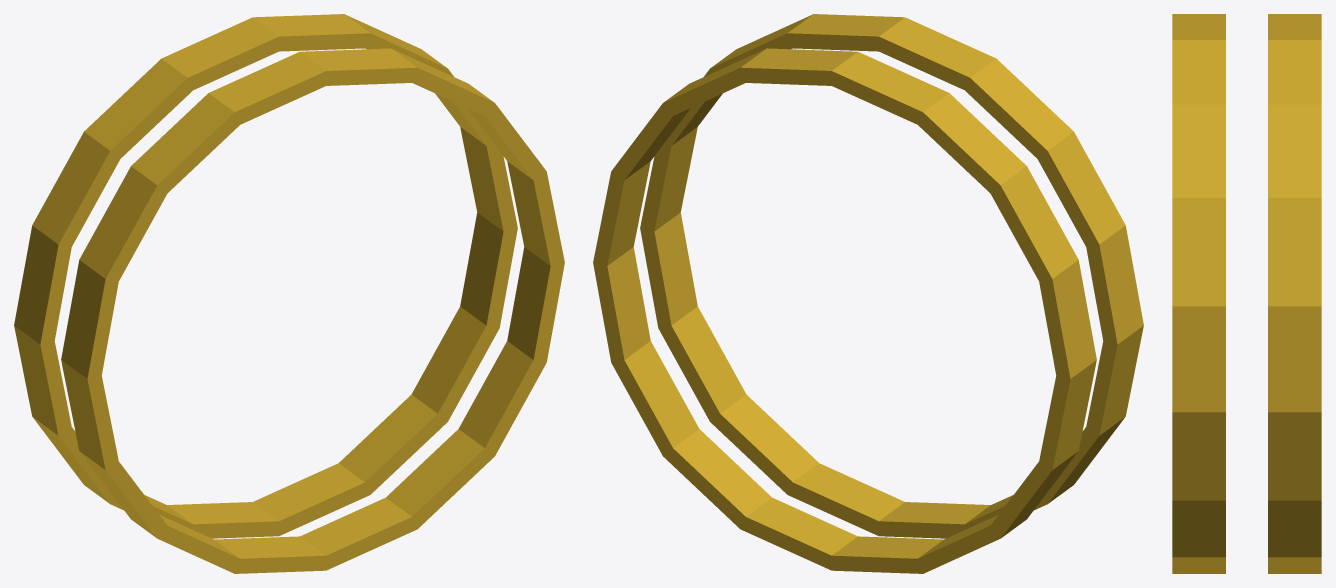
The model's file is BombGlide__Body.obj.
The picture shows the model from 3 angles, left to right: view 1: azimuth 30°, elevation 25°; view 2: azimuth 150°, elevation 25°; view 3: azimuth 270°, elevation 25°; orthographic projection.
Visible parts, largest first — view 1: Identification_band.001, Identification_band; view 2: Identification_band, Identification_band.001; view 3: Identification_band, Identification_band.001.
Part boxes in pixels (x1=…): Identification_band.001: x1=61, y1=48, x2=564, y2=573; Identification_band: x1=14, y1=14, x2=517, y2=538; Identification_band: x1=593, y1=48, x2=1096, y2=573; Identification_band.001: x1=640, y1=14, x2=1143, y2=538; Identification_band: x1=1268, y1=14, x2=1321, y2=573; Identification_band.001: x1=1172, y1=14, x2=1225, y2=573.
Bounding box in the file's own units: 0.2929 × 0.2929 × 0.078.
